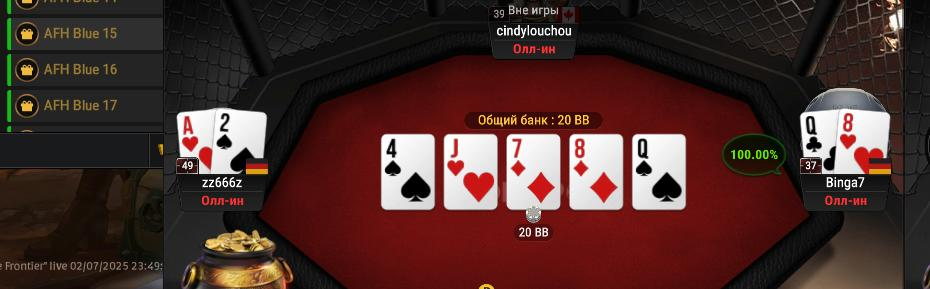2s: (215, 111, 264, 173)
4s: (382, 136, 433, 209)
7d: (507, 134, 559, 209)
8d: (570, 136, 622, 209)
8h: (838, 111, 888, 171)
Ah: (177, 110, 215, 173)
Jh: (445, 135, 497, 209)
Qc: (799, 111, 837, 173)
Qs: (633, 136, 686, 209)
